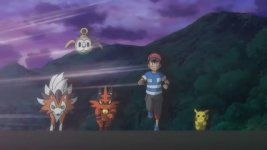pikachu: (190, 105, 211, 133)
